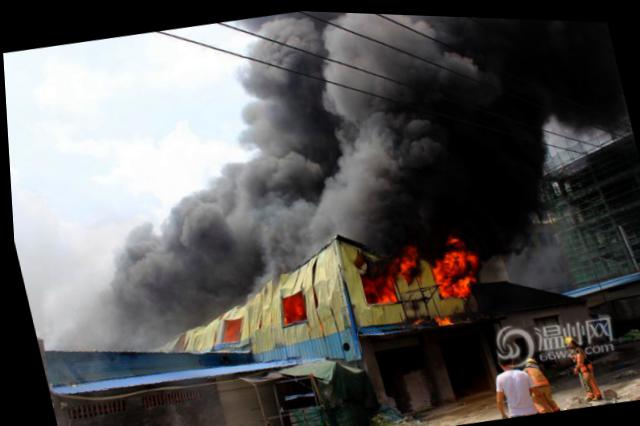fire: (426, 249, 466, 295), (440, 229, 476, 271), (355, 266, 392, 300), (384, 244, 417, 271), (430, 308, 448, 323)
